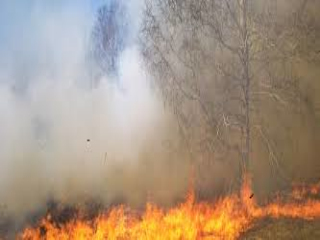fire: (18, 192, 318, 235)
smoke: (29, 47, 226, 190)
